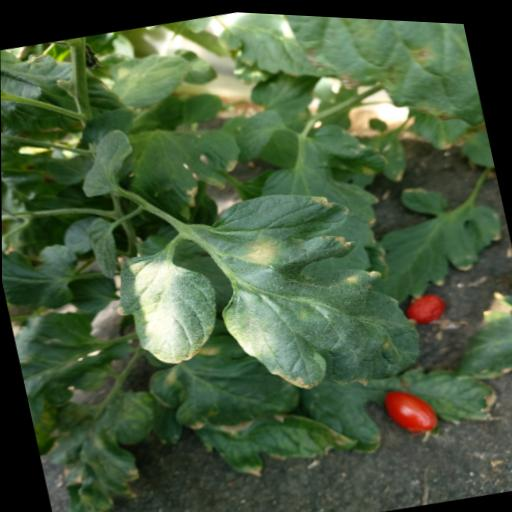Leaf Mold: (196, 162, 431, 404), (269, 11, 485, 157), (103, 238, 229, 372)
